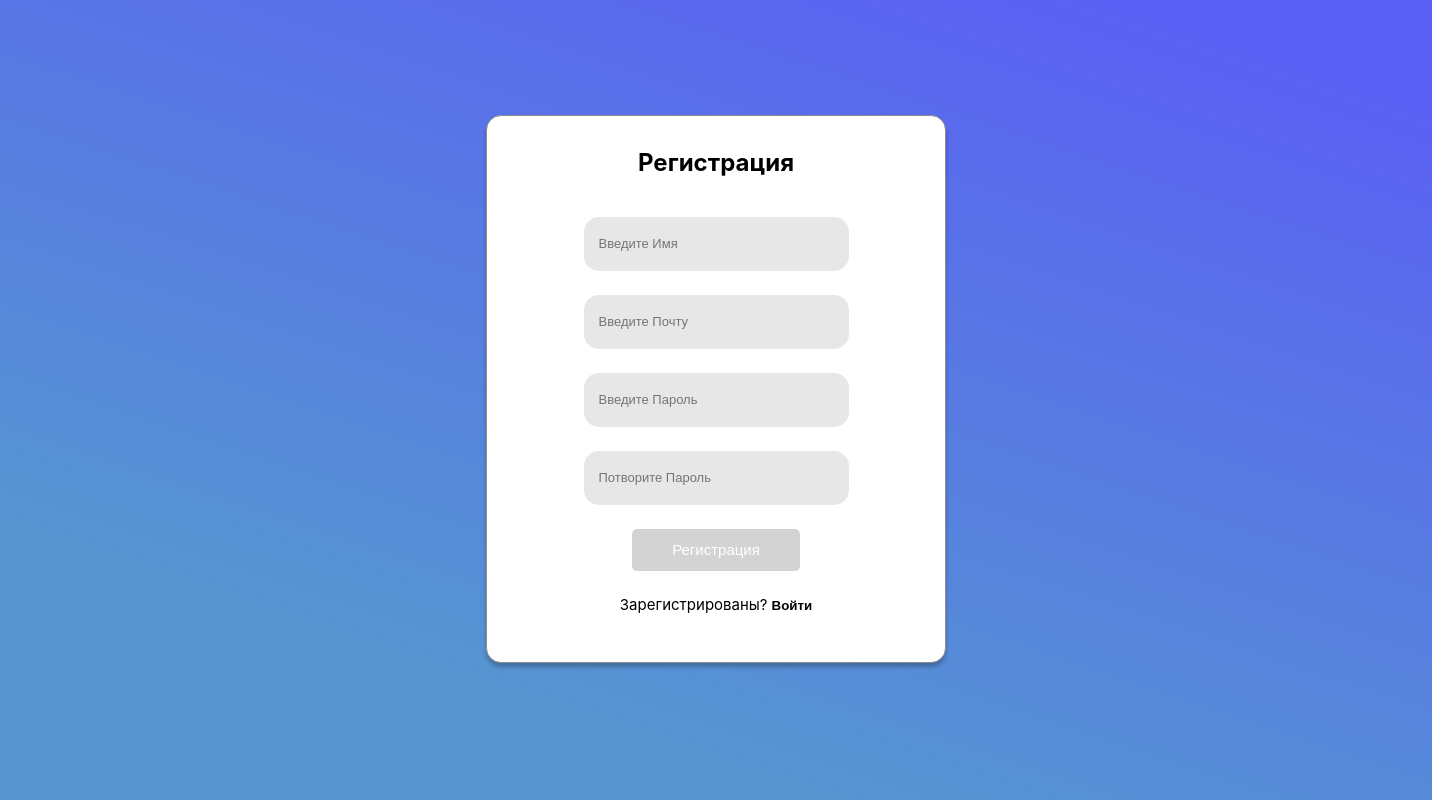
Test case: register › should get error message that passwords don't match
In the password field with test id "password": (717, 400) [584,373,849,427], type "1234567"
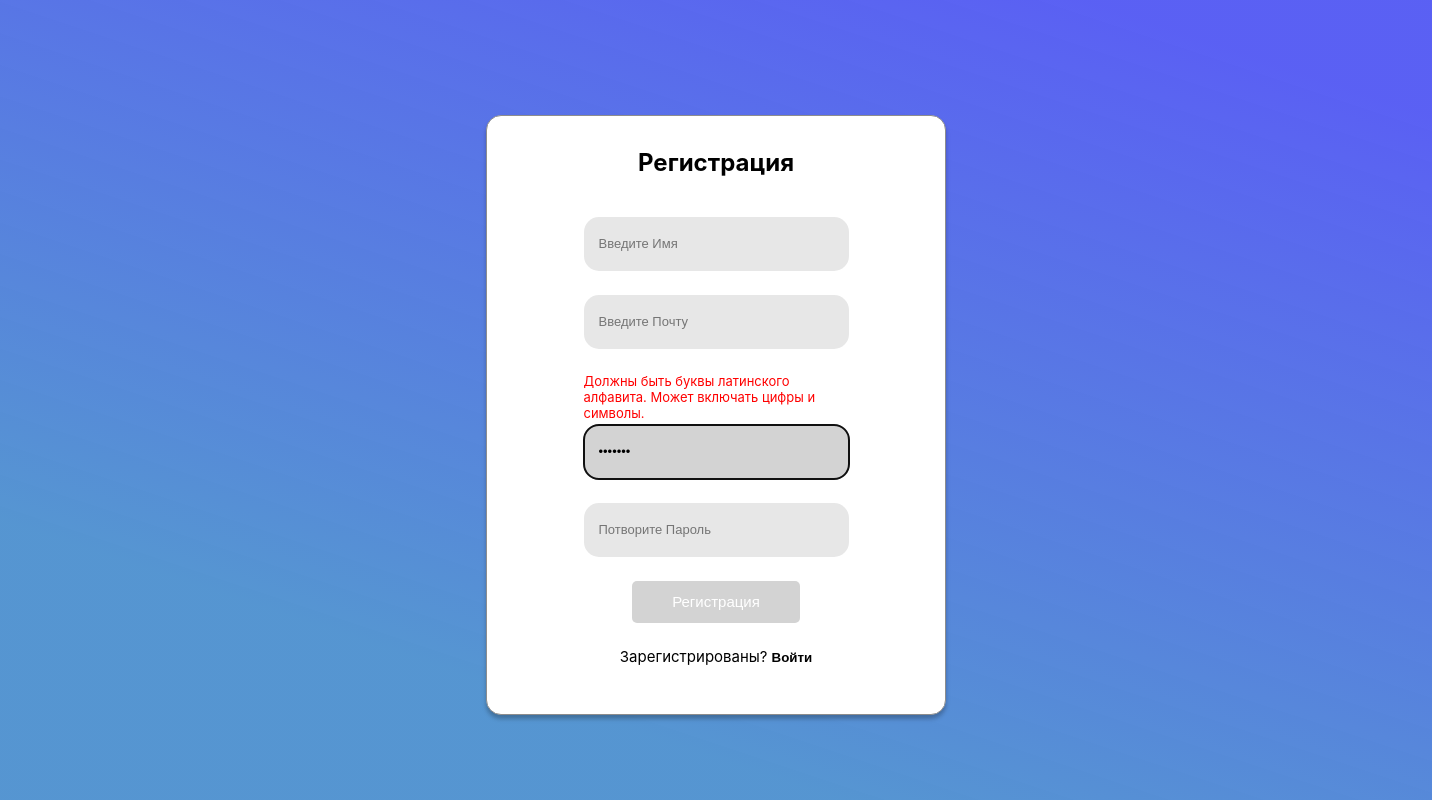
In the password field with test id "repeatPassword": (717, 530) [584,503,849,557], type "123456"
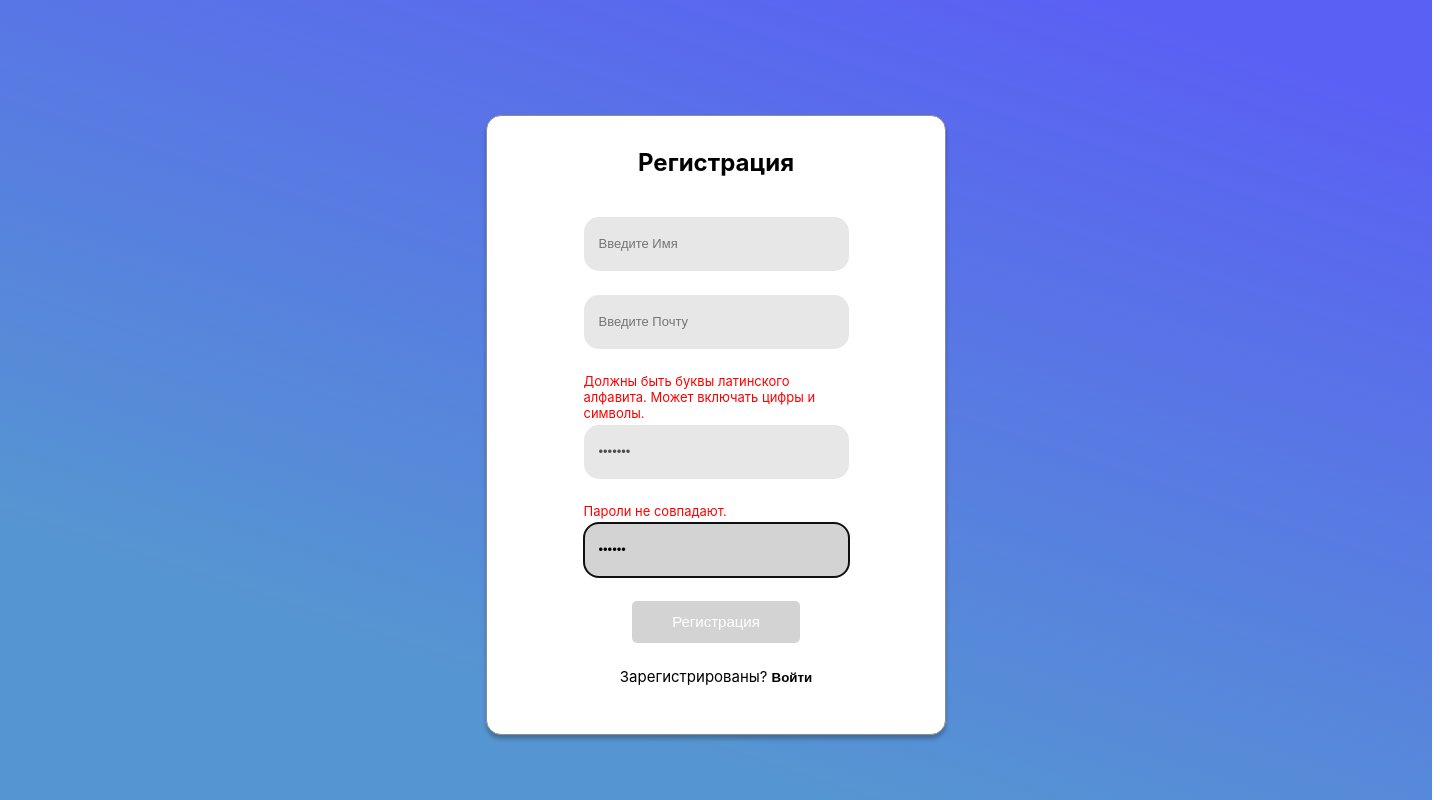
Expected: the text "Пароли не совпадают." is shown, [584,503,727,519]
